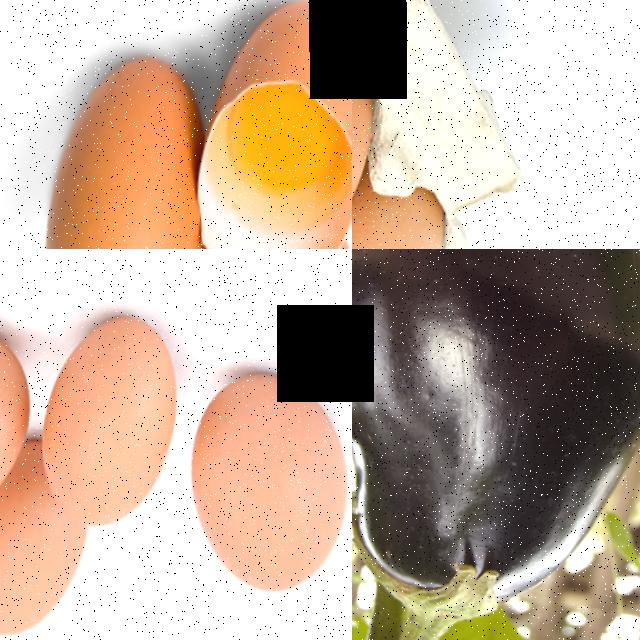egg_: (174, 353, 352, 609), (182, 0, 352, 249), (26, 46, 223, 249), (31, 302, 194, 533), (0, 507, 93, 640), (0, 307, 44, 542), (352, 184, 454, 249), (352, 60, 383, 248)
eggplant: (352, 249, 640, 631)
